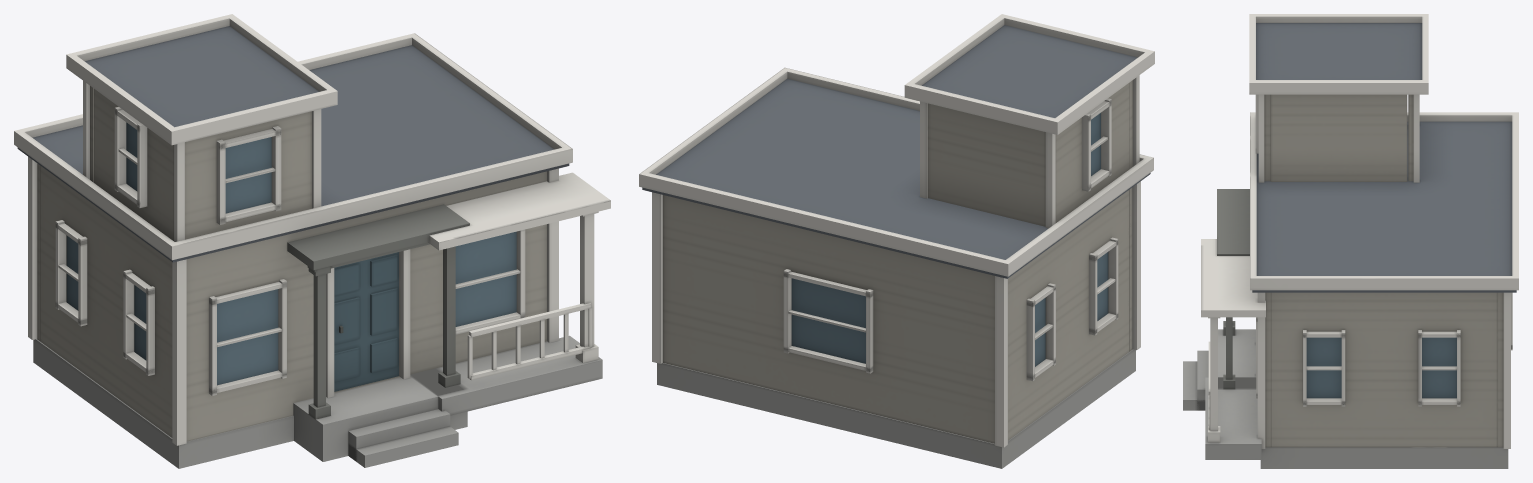
The model's file is House_03_Corner_Tower.fbx.
3 views of the same model, side by side, from view 1: azimuth 30°, elevation 25°; view 2: azimuth 150°, elevation 25°; view 3: azimuth 270°, elevation 25° (orthographic). The views are drawn at different scales.
Parts seen in each view (by area): view 1: House_03_Corner_Tower; view 2: House_03_Corner_Tower; view 3: House_03_Corner_Tower.
Part boxes in pixels (bbox=[...]): House_03_Corner_Tower: bbox=[14, 14, 610, 468]; House_03_Corner_Tower: bbox=[639, 14, 1154, 468]; House_03_Corner_Tower: bbox=[1183, 14, 1518, 468].
Size of the model in its own units: 6.89 by 5.54 by 5.74.
1 material, 1 textured.
